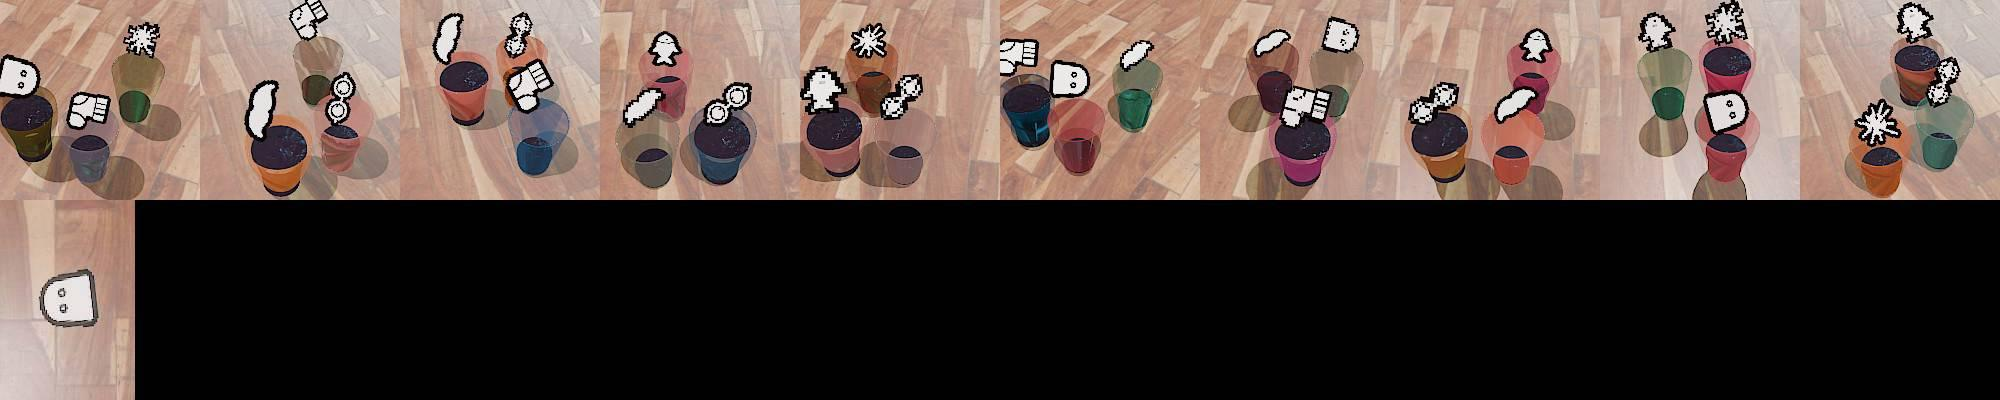icon: (36, 267, 99, 328), (505, 59, 553, 114), (1852, 98, 1902, 147), (243, 77, 281, 141), (799, 65, 847, 115), (704, 81, 753, 129), (1701, 88, 1750, 136), (1408, 80, 1459, 126), (1280, 83, 1333, 127), (880, 72, 925, 120), (1925, 56, 1962, 108), (1704, 1, 1747, 45), (1493, 84, 1540, 123), (0, 54, 41, 97), (1636, 11, 1677, 54), (65, 91, 110, 129), (325, 71, 357, 124), (432, 13, 464, 66), (623, 85, 665, 125), (1049, 59, 1092, 98), (1895, 2, 1935, 43), (999, 37, 1041, 76), (289, 0, 328, 41), (1321, 16, 1361, 54), (122, 21, 161, 58), (849, 22, 888, 59), (504, 12, 534, 58), (647, 30, 682, 68), (1518, 27, 1554, 63), (1118, 38, 1154, 72), (1253, 28, 1292, 58)
